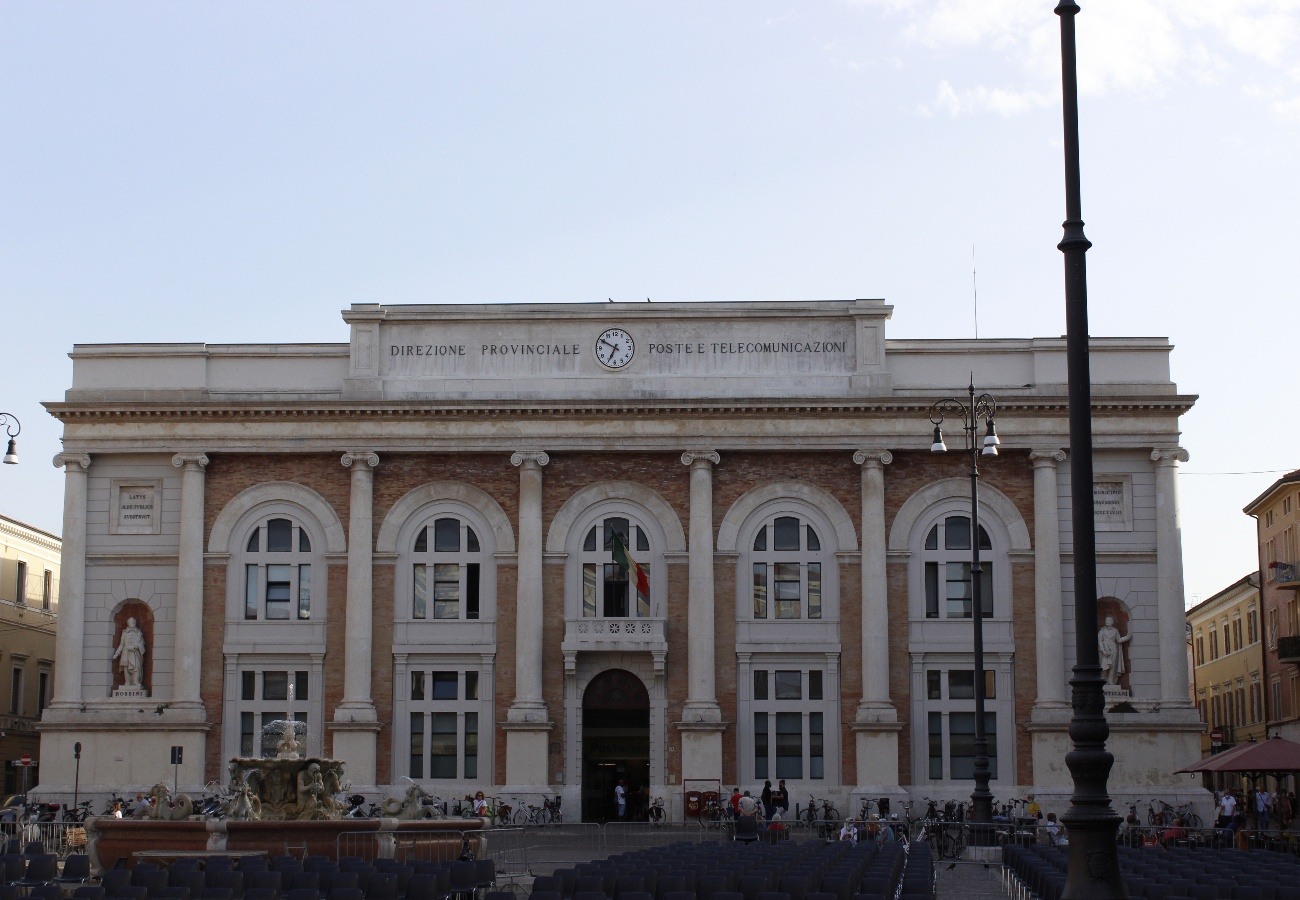Fontana Piazza del Popolo: (224, 754, 343, 829)
Gioachino Rossini: (111, 605, 153, 706)
Giulio Perticari: (1084, 601, 1139, 719)
Palazzo delle Poste: (75, 304, 1179, 802)
